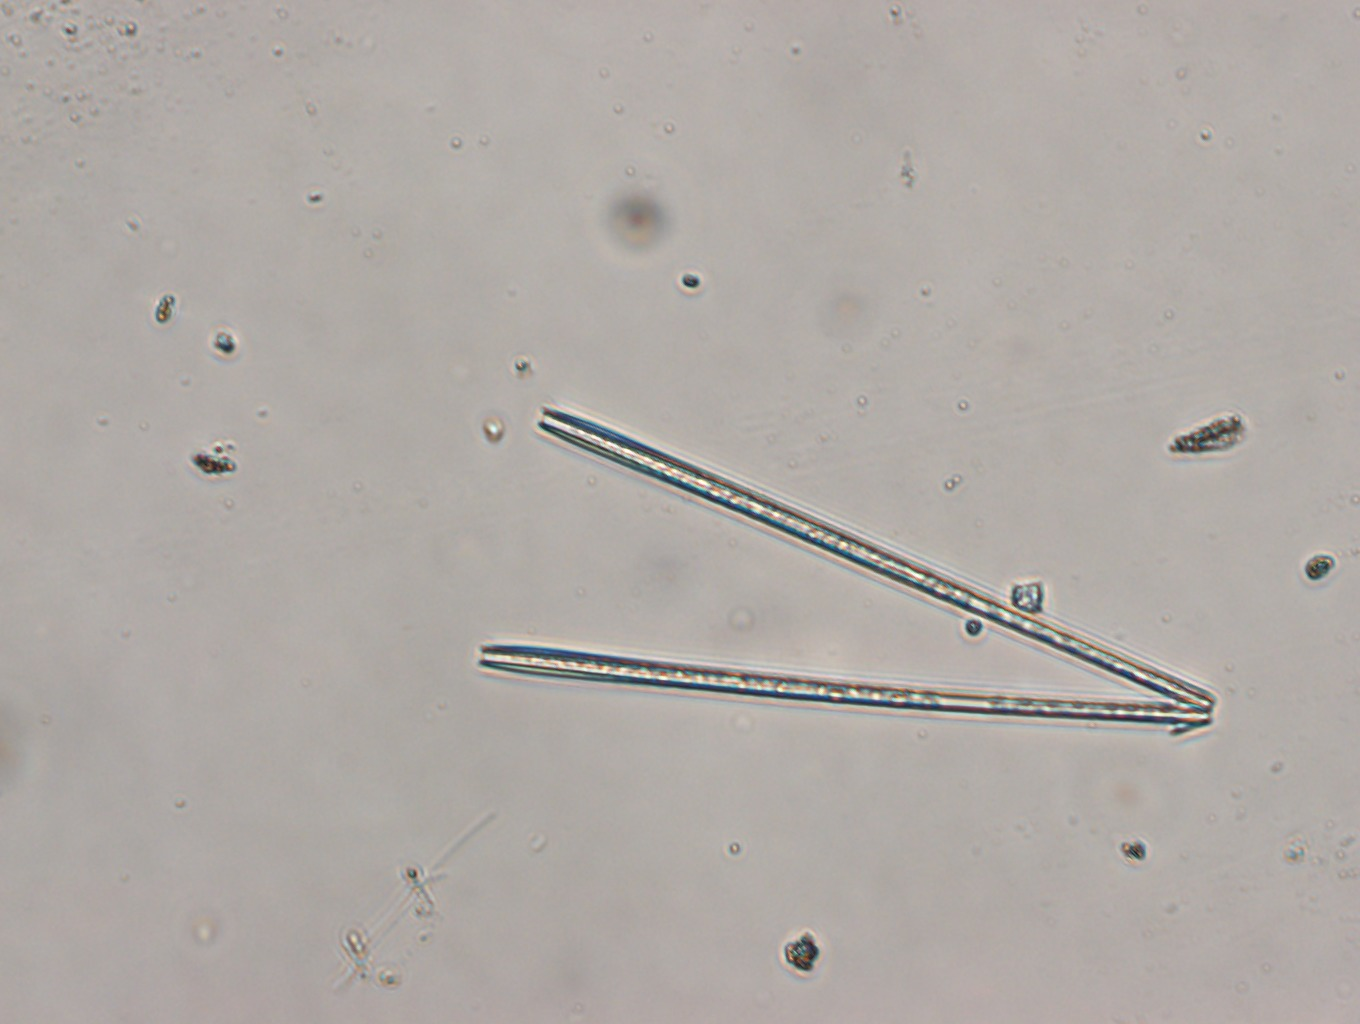thalassionema frauenfeldii: (478, 406, 1216, 728)
